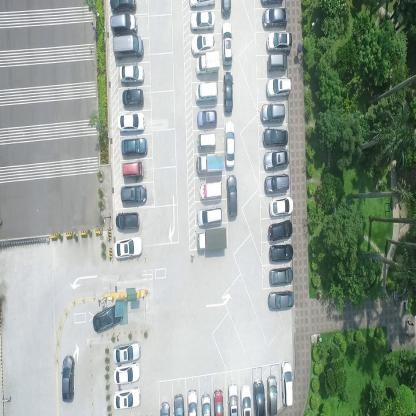car: (92, 302, 123, 332), (113, 34, 142, 60), (195, 226, 227, 249), (114, 236, 143, 260), (113, 386, 142, 410), (61, 354, 75, 403), (113, 340, 141, 364), (113, 361, 141, 384), (195, 51, 220, 76), (281, 358, 294, 406), (262, 149, 290, 171), (116, 111, 145, 132), (195, 152, 222, 174), (265, 30, 292, 52), (267, 290, 294, 312), (265, 75, 291, 97), (260, 8, 286, 30), (111, 14, 137, 36), (260, 102, 286, 124), (120, 64, 145, 86), (264, 172, 289, 194), (269, 196, 294, 218), (268, 220, 293, 242), (197, 206, 222, 228), (190, 33, 216, 54), (224, 119, 235, 168), (190, 10, 214, 32), (198, 180, 222, 202), (269, 265, 293, 287), (121, 137, 147, 157), (119, 184, 146, 203), (193, 82, 218, 102), (221, 21, 232, 66), (261, 128, 288, 146), (226, 174, 237, 218), (253, 378, 266, 415), (115, 211, 140, 230), (268, 244, 294, 262), (267, 374, 278, 415), (121, 160, 144, 179), (265, 52, 286, 72), (122, 88, 144, 107), (240, 383, 252, 415), (197, 108, 217, 127), (223, 70, 232, 112), (228, 382, 239, 415), (110, 0, 137, 13), (197, 132, 216, 149), (187, 388, 198, 415), (173, 392, 185, 416), (214, 388, 223, 415), (188, 0, 216, 8), (201, 394, 211, 416), (220, 0, 232, 18)
